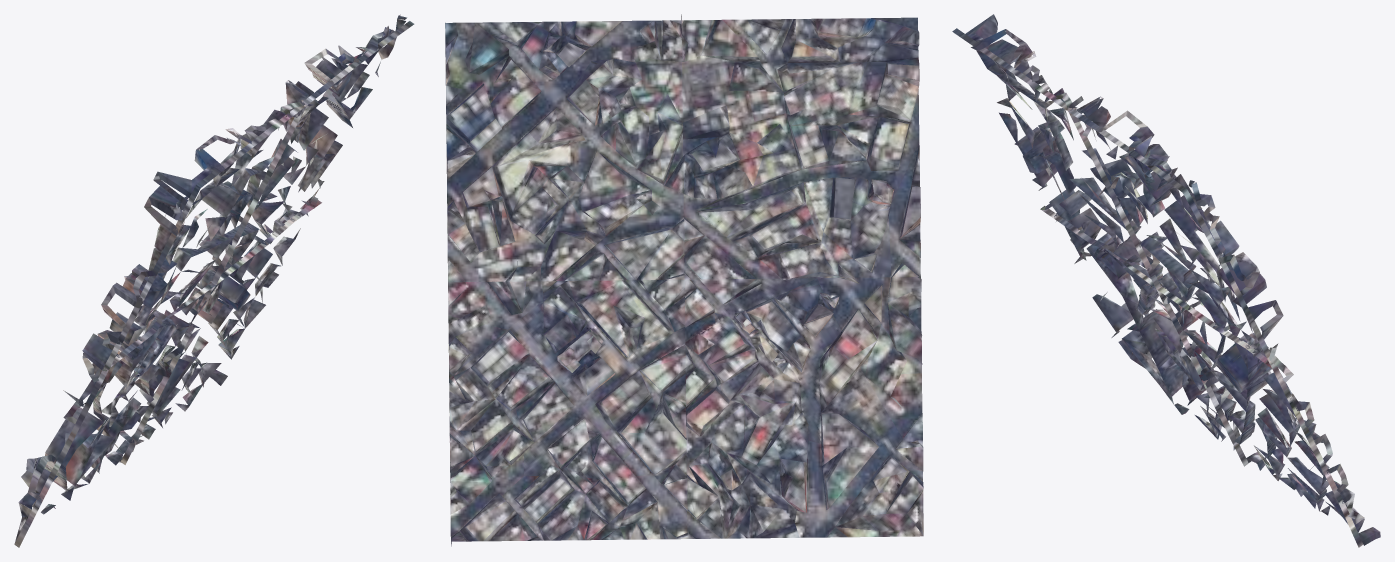
3 views of the same model, side by side, from view 1: azimuth 30°, elevation 25°; view 2: azimuth 150°, elevation 25°; view 3: azimuth 270°, elevation 25° (orthographic). The views are drawn at different scales.
Size of the model in its own units: 612 by 573 by 535.
Materials: 1 (1 with a texture image).
